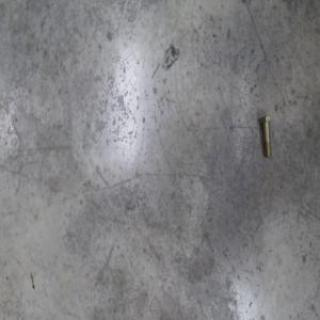Bolttrack_idkeyframe: (258, 113, 271, 157)
